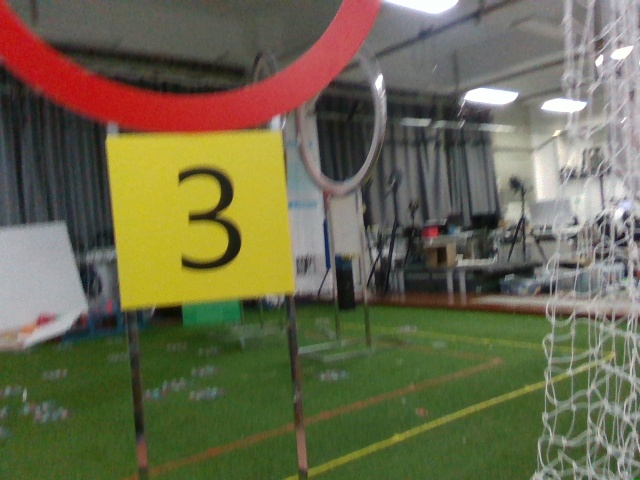target: (121, 139, 283, 302)
